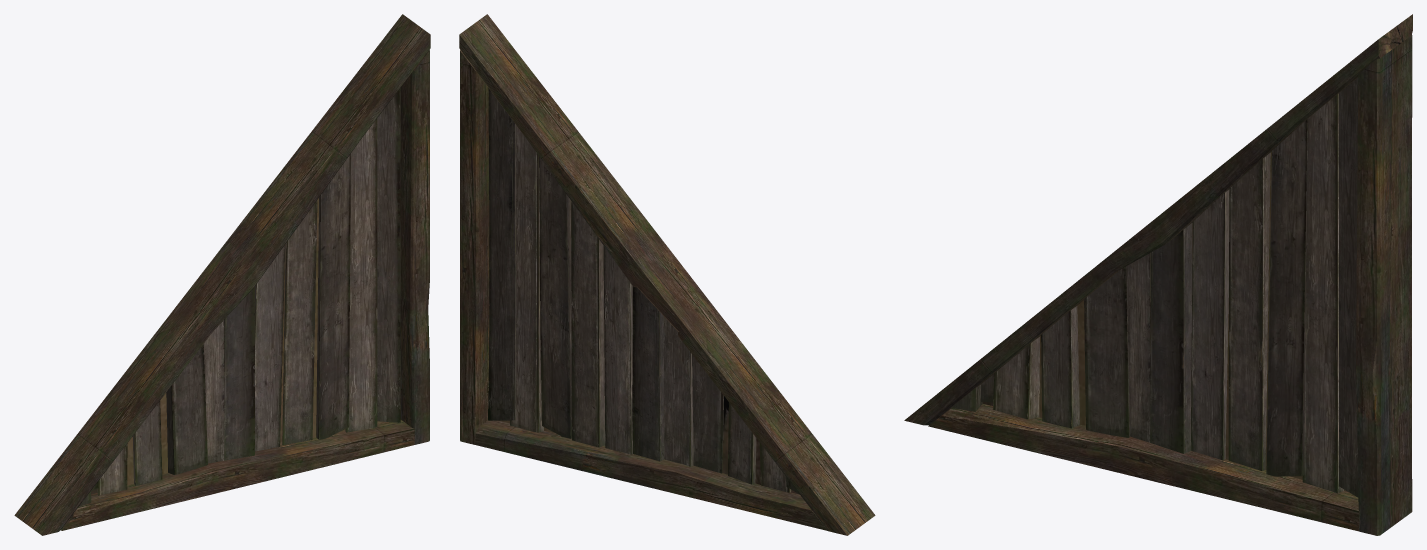
3 views of the same model, side by side, from view 1: azimuth 30°, elevation 25°; view 2: azimuth 150°, elevation 25°; view 3: azimuth 330°, elevation 25° (orthographic). The views are drawn at different scales.
Parts seen in each view (by area): view 1: SM_BB_T1_Wall_Large_Diagonal_LOD0; view 2: SM_BB_T1_Wall_Large_Diagonal_LOD0; view 3: SM_BB_T1_Wall_Large_Diagonal_LOD0.
Part boxes in pixels (x1,y1,x2,y2): SM_BB_T1_Wall_Large_Diagonal_LOD0: (14, 14, 430, 535); SM_BB_T1_Wall_Large_Diagonal_LOD0: (459, 14, 875, 535); SM_BB_T1_Wall_Large_Diagonal_LOD0: (904, 14, 1412, 535).
Bounding box in the file's own units: 3 × 3 × 0.3774.
Materials: 2 (2 with a texture image).
